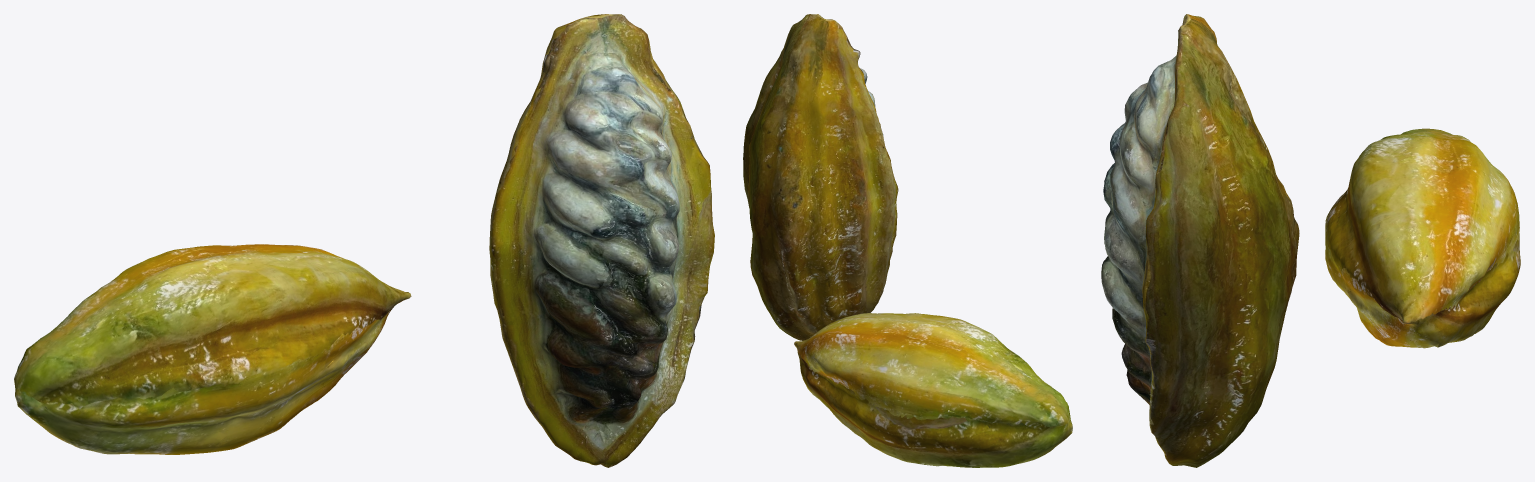
3 views of the same model, side by side, from view 1: azimuth 30°, elevation 25°; view 2: azimuth 150°, elevation 25°; view 3: azimuth 270°, elevation 25° (orthographic). The views are drawn at different scales.
Visible parts, largest first — view 1: Object_6, Object_4; view 2: Object_6, Object_4; view 3: Object_6, Object_4.
Part boxes in pixels (box(x1,y1,x2,y2)): Object_6: box(489, 14, 714, 467); Object_4: box(14, 244, 411, 454); Object_6: box(743, 14, 898, 340); Object_4: box(794, 313, 1072, 467); Object_6: box(1101, 14, 1299, 467); Object_4: box(1325, 128, 1520, 348).
Size of the model in its own units: 0.318 by 0.2416 by 0.2086.
Materials: 2 (2 with a texture image).
